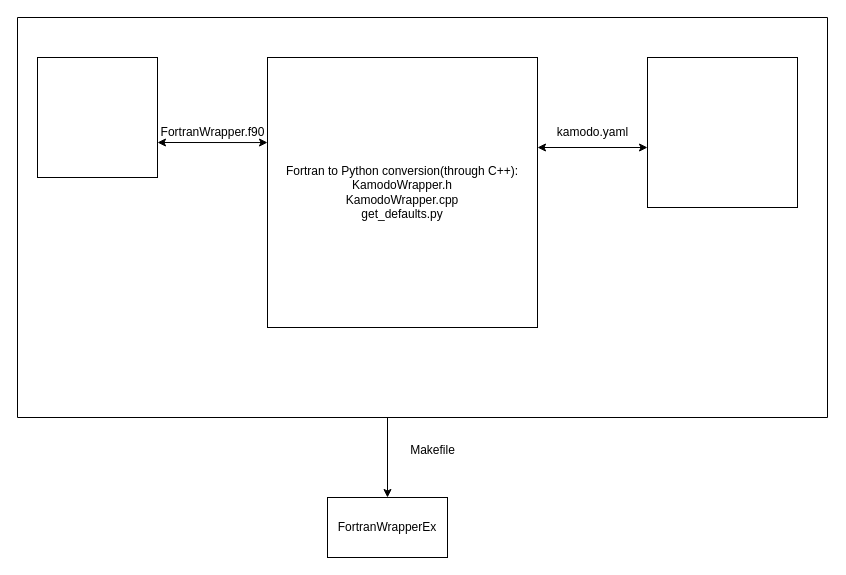
This 846x575 diagram has some shape labels left out. The centre of each missing label's shape, as x and y in pixels:
"Kamodo Model: kamodo_example.py" goes at point (722, 132).
"User main program: main.f90" goes at point (97, 117).
